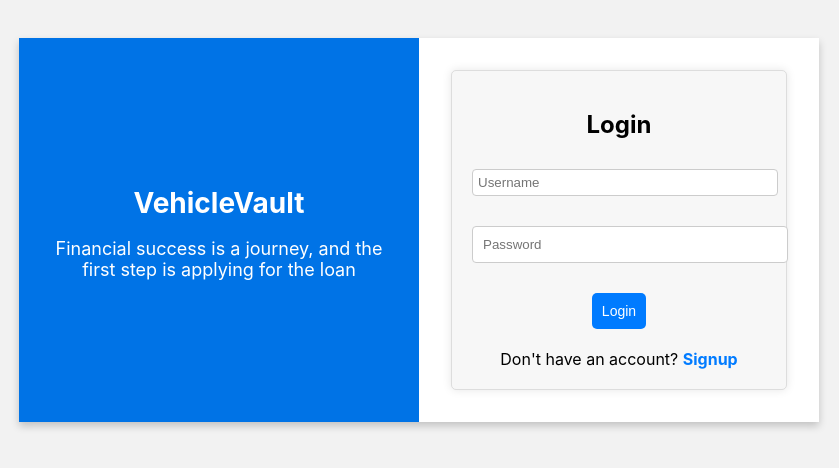
Test: Login Component › login_required_validation_for_input_fields
The width and height of the screenshot is (839, 468).
Click the button "Login" at [619, 312], box [592, 294, 646, 330]
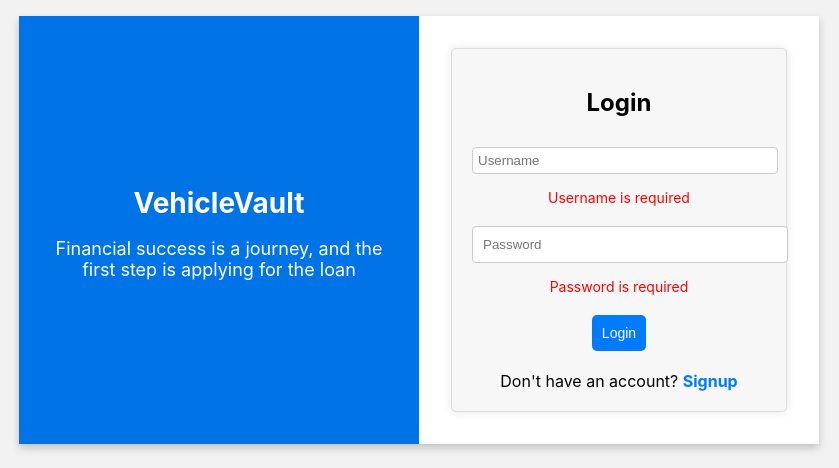
Now the text "Username is required" is shown, box [548, 190, 690, 206]
Now the text "Password is required" is shown, box [550, 278, 688, 296]
